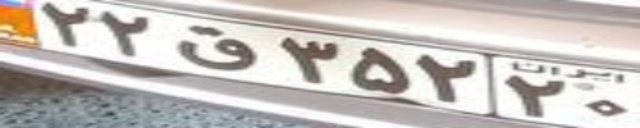0: (582, 98, 628, 117)
2: (415, 54, 473, 102), (503, 74, 565, 118), (36, 1, 92, 46), (100, 11, 143, 55)
3: (279, 36, 337, 83)
5: (348, 47, 410, 95)
ghaf: (176, 26, 253, 72)
